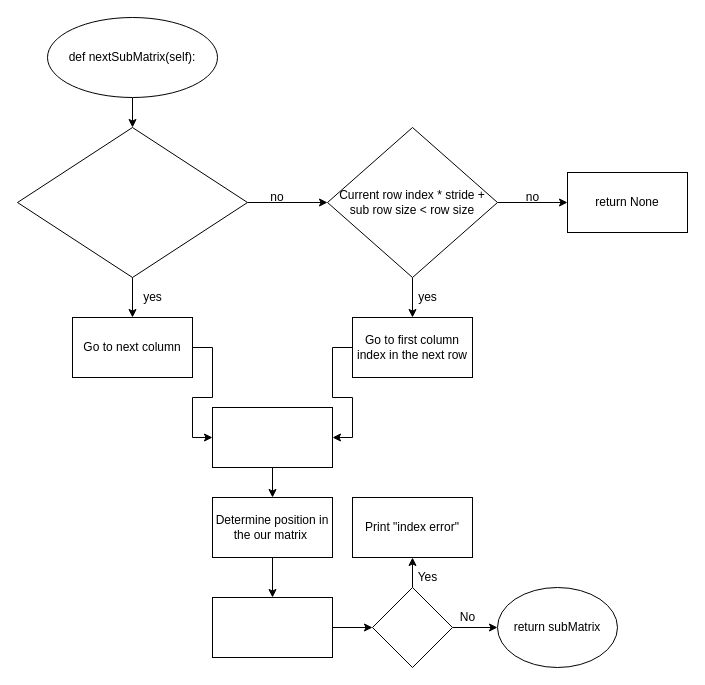
Image size: 705x685. Some labels were removed from this diagram. Each missing label, with the box of its shape:
Create the new sub matrix for the row or column: (212, 406, 332, 468)
Current column index * stride + sub column size < column size: (16, 126, 248, 278)
Error: (372, 586, 452, 668)
Fill the sub matrix with the corresponding values from the our matrix: (212, 596, 332, 658)
